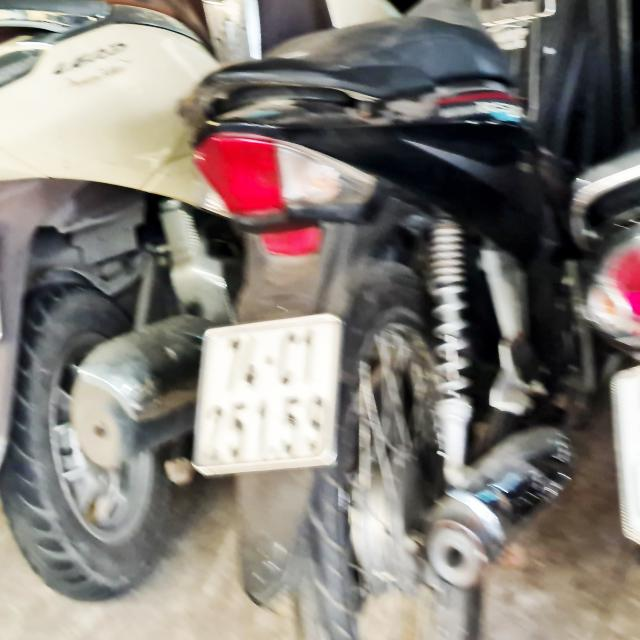license_plate: (193, 313, 340, 472)
